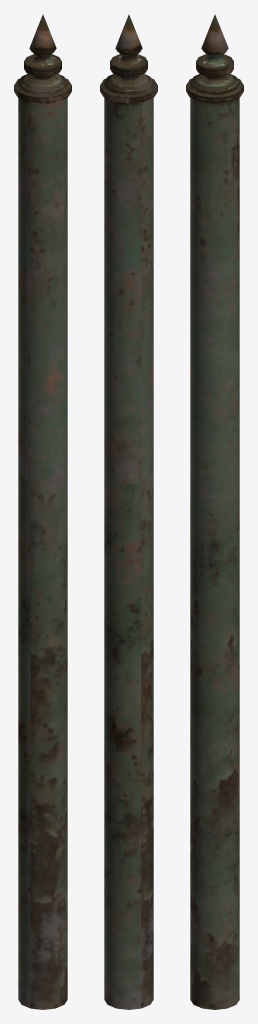
Rendered from Garden_Pole.FBX.
3 renders of one model, left to right at view 1: azimuth 90°, elevation 25°; view 2: azimuth 150°, elevation 25°; view 3: azimuth 330°, elevation 25°, orthographic.
Parts seen in each view (by area): view 1: Garden_Pole; view 2: Garden_Pole; view 3: Garden_Pole.
Part boxes in pixels (<box>): Garden_Pole: <box>14,14,71,1009</box>; Garden_Pole: <box>100,14,157,1009</box>; Garden_Pole: <box>186,14,243,1009</box>.
Bounding box in the file's own units: 15.17 × 284 × 15.17.
